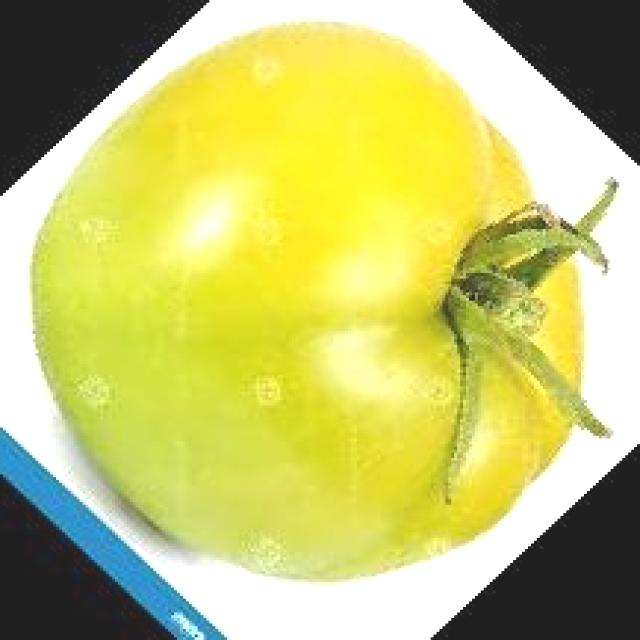tomato: (20, 18, 595, 586)
